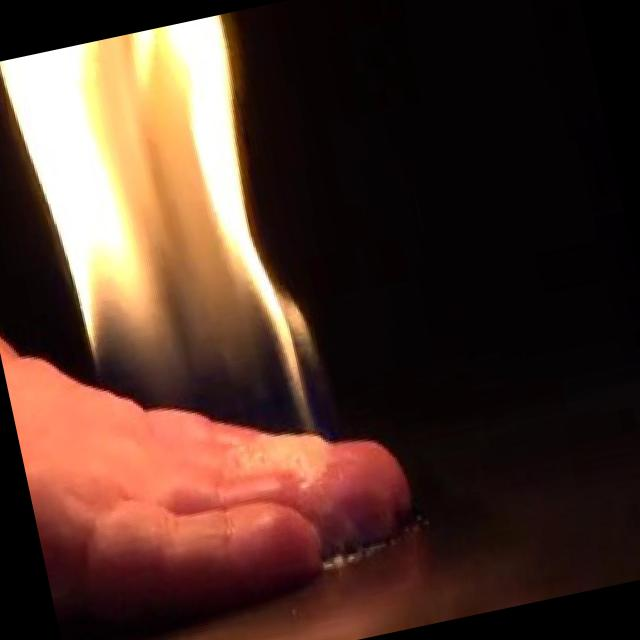Fire: (0, 7, 344, 501)
